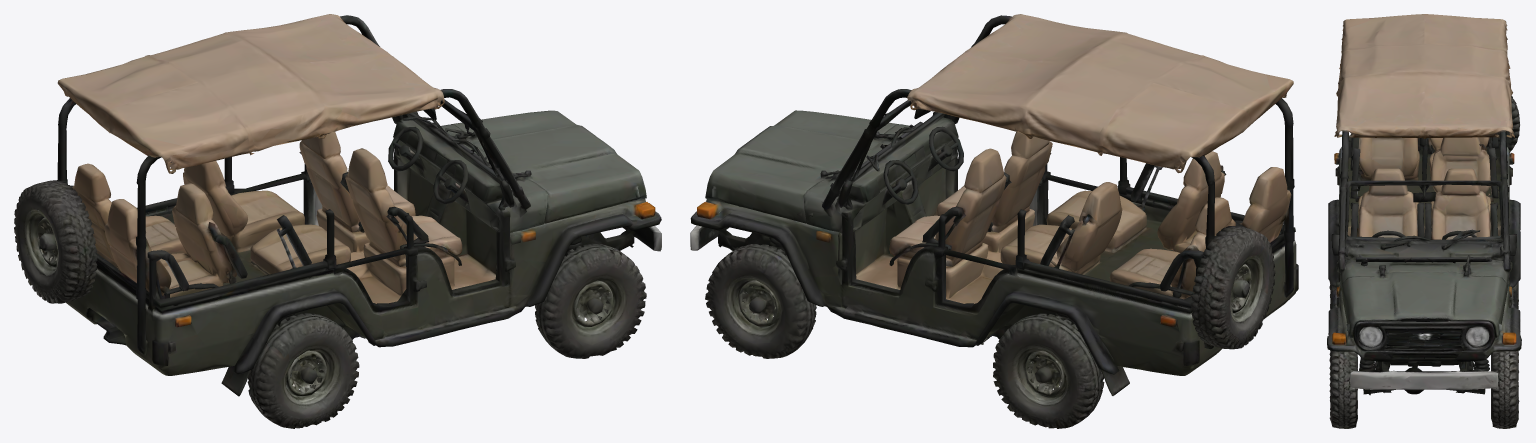
Rendered from jeep.glb.
3 renders of one model, left to right at view 1: azimuth 30°, elevation 25°; view 2: azimuth 150°, elevation 25°; view 3: azimuth 270°, elevation 25°, orthographic. The views are drawn at different scales.
Parts seen in each view (by area): view 1: tripo_node_2c92734b-994d-4e33-a2c9-a76b0cafaf0e; view 2: tripo_node_2c92734b-994d-4e33-a2c9-a76b0cafaf0e; view 3: tripo_node_2c92734b-994d-4e33-a2c9-a76b0cafaf0e.
Boxes of the visible parts, x1,y1,x2,y2 form: tripo_node_2c92734b-994d-4e33-a2c9-a76b0cafaf0e: (14, 14, 661, 428); tripo_node_2c92734b-994d-4e33-a2c9-a76b0cafaf0e: (690, 14, 1298, 428); tripo_node_2c92734b-994d-4e33-a2c9-a76b0cafaf0e: (1327, 14, 1521, 428).
Bounding box in the file's own units: 0.9803 × 0.5454 × 0.3825.
Materials: 1 (1 with a texture image).
